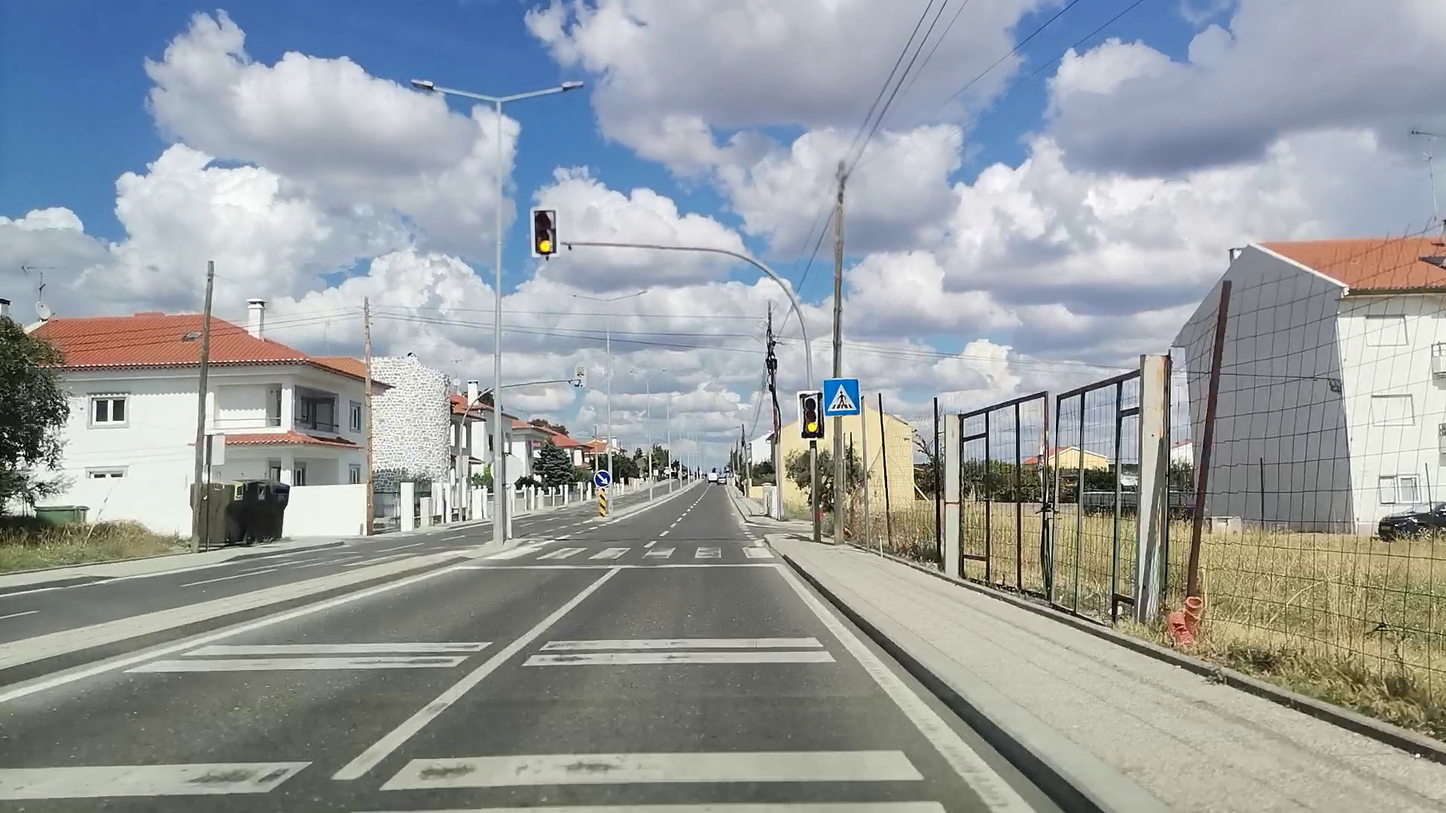Stairs: (492, 542, 779, 566)
